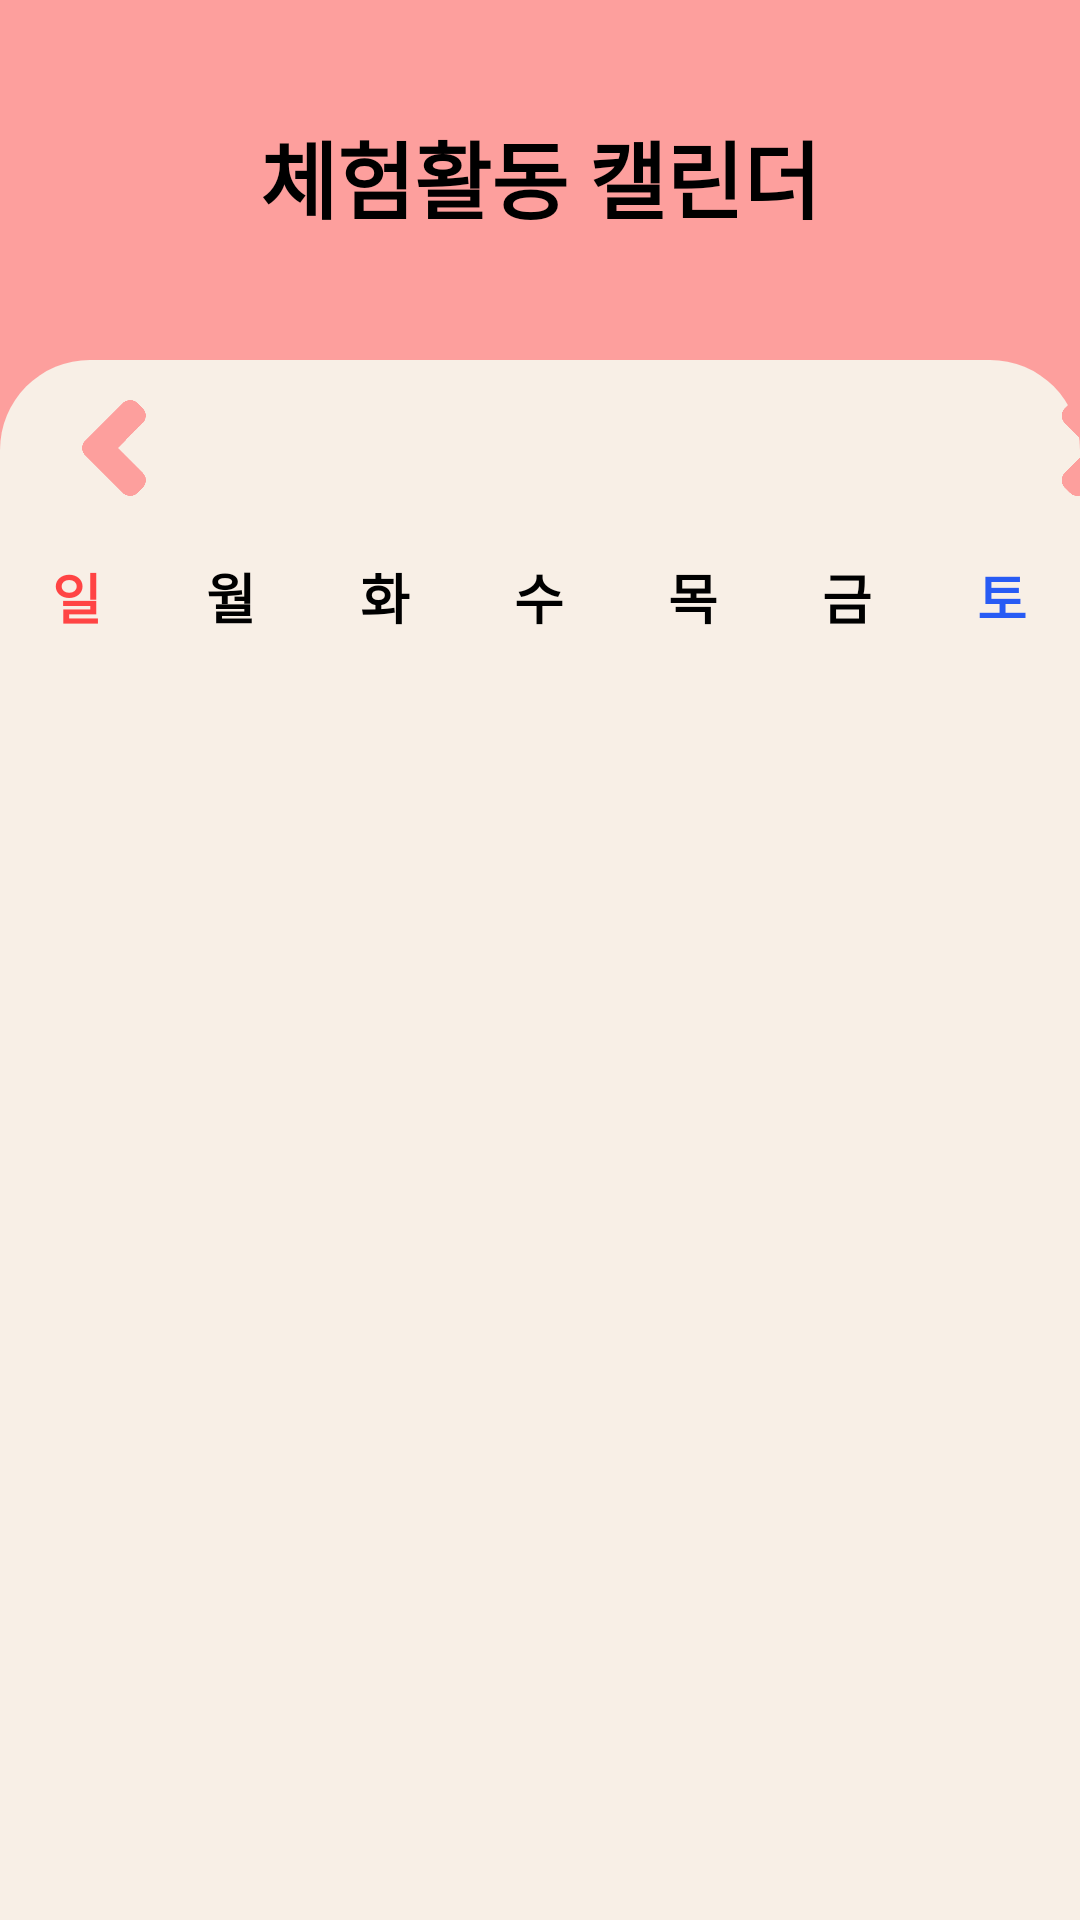

Screen size 1080w x 1920h. Icon name, then its center in pixels as point (x, y):
pointerl: point (114, 448)
